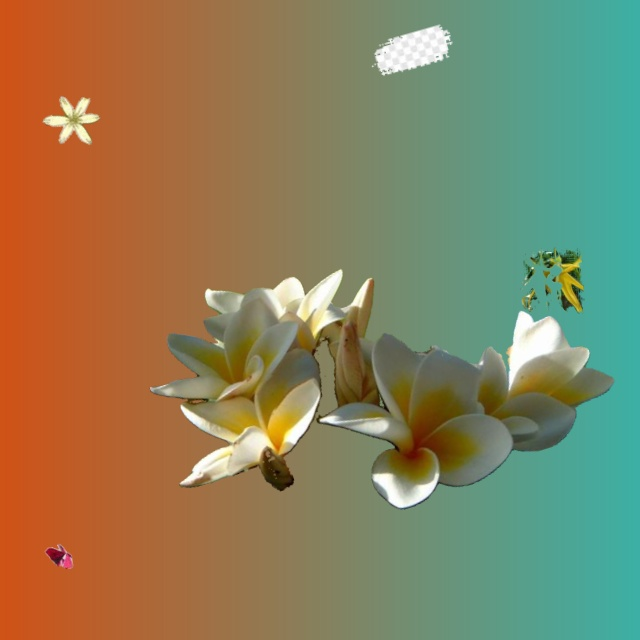butterfly flower: (45, 545, 72, 568)
frangipani: (150, 269, 613, 508)
jasmine: (43, 96, 99, 144)
ylang-ylang: (522, 248, 583, 312), (372, 25, 451, 74)
